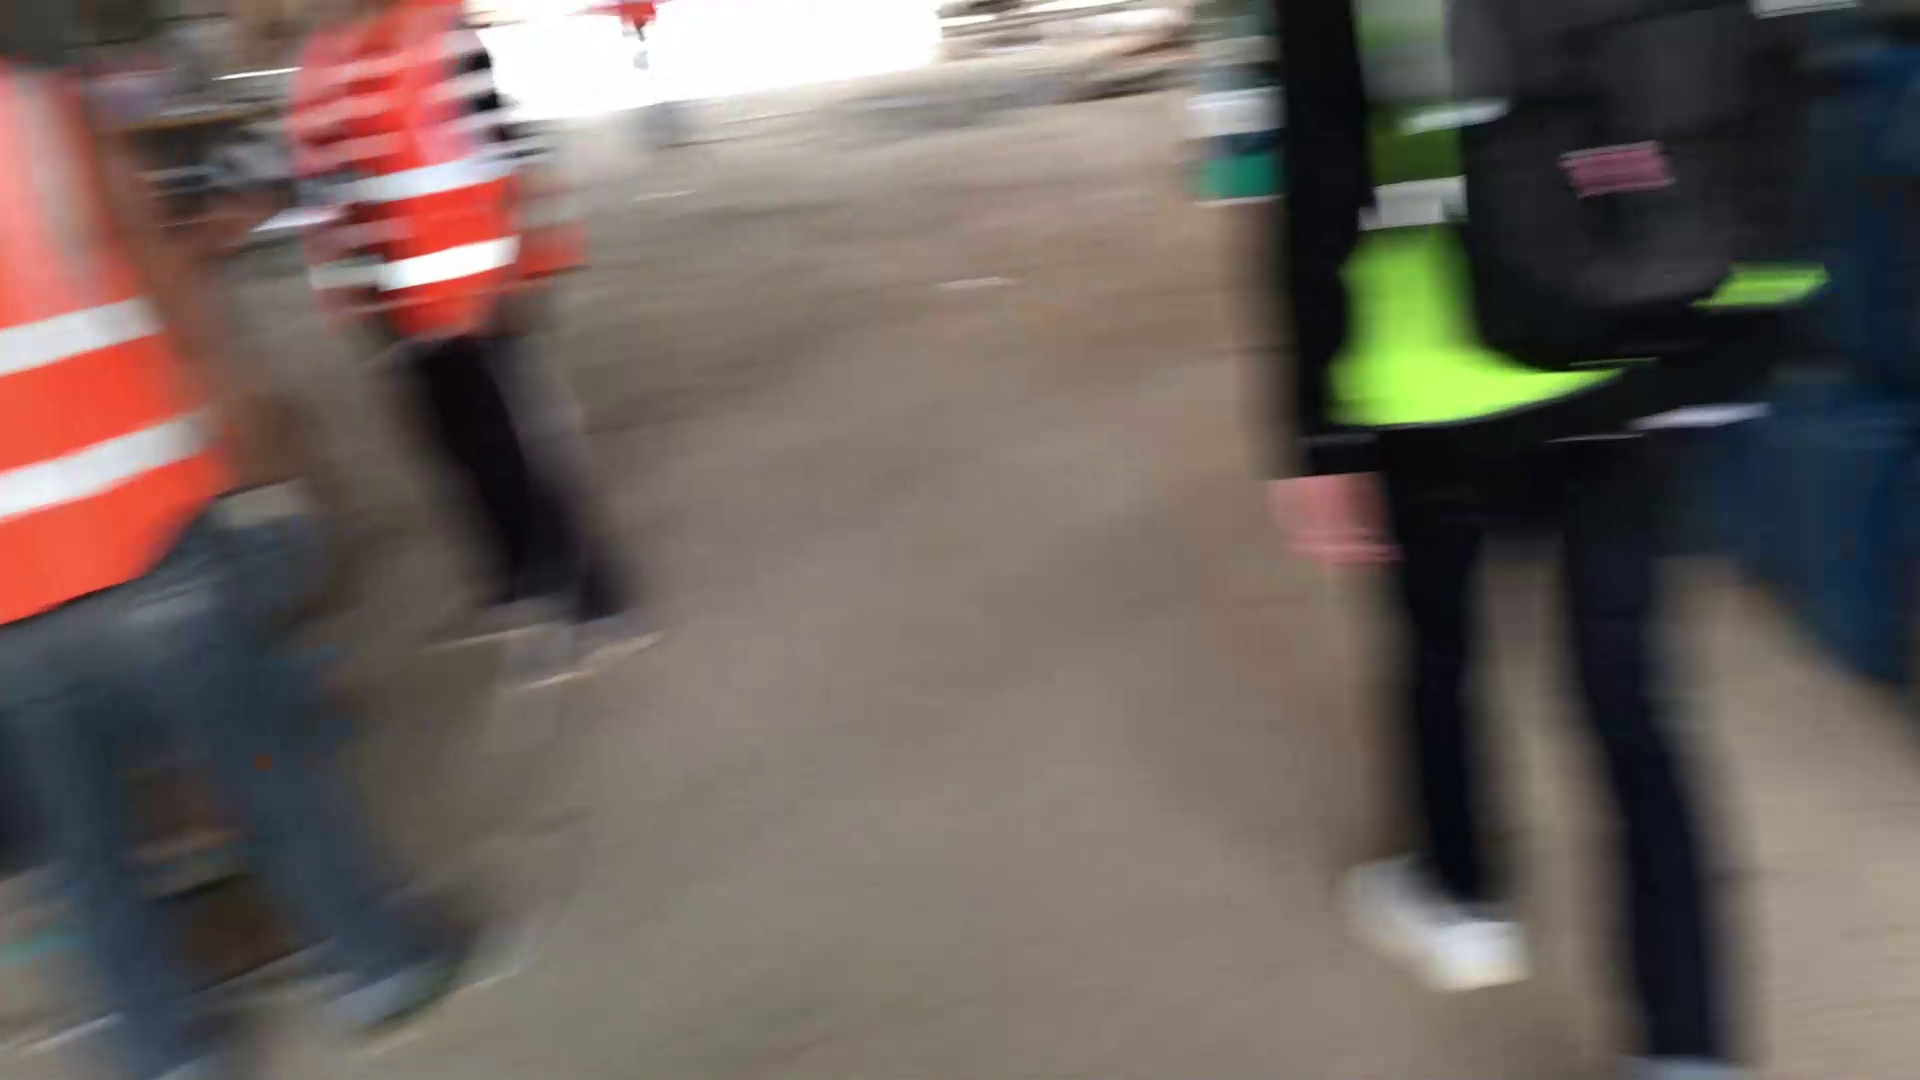person: (1181, 1, 1791, 1071), (5, 1, 507, 995), (243, 6, 710, 690)
vest: (6, 71, 244, 619)
